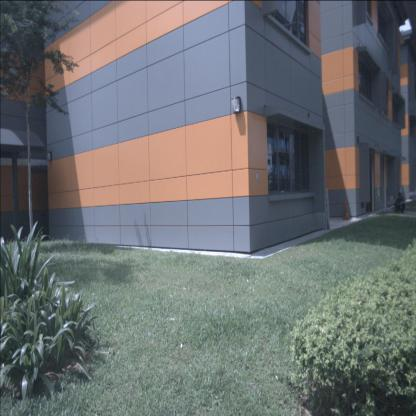human-pedestrian-adult: (394, 192, 406, 214)
movable_object-trafficcone: (342, 197, 350, 220)
